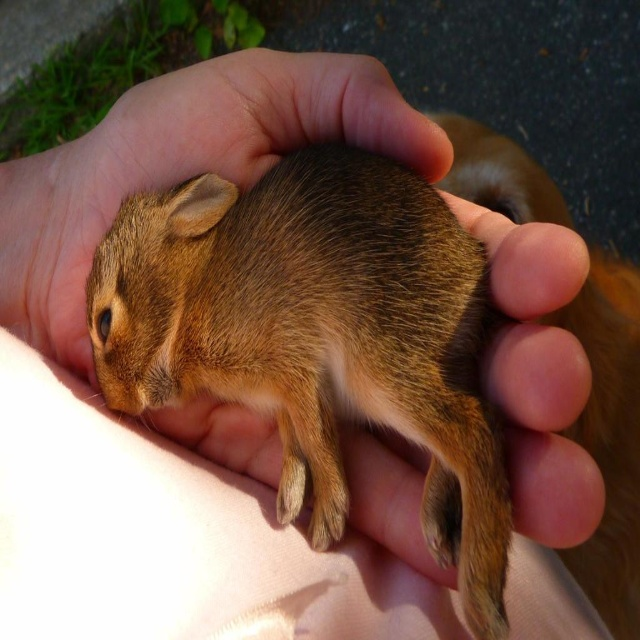Rabbit: (82, 137, 516, 639)
